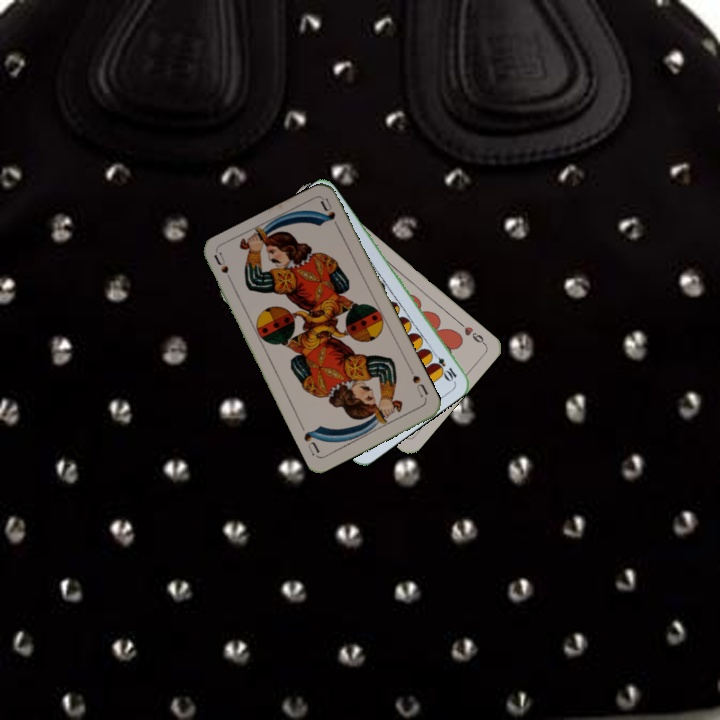E10: (427, 347, 459, 384)
H9: (454, 317, 488, 347)
SU: (210, 250, 237, 289), (406, 365, 431, 400)
